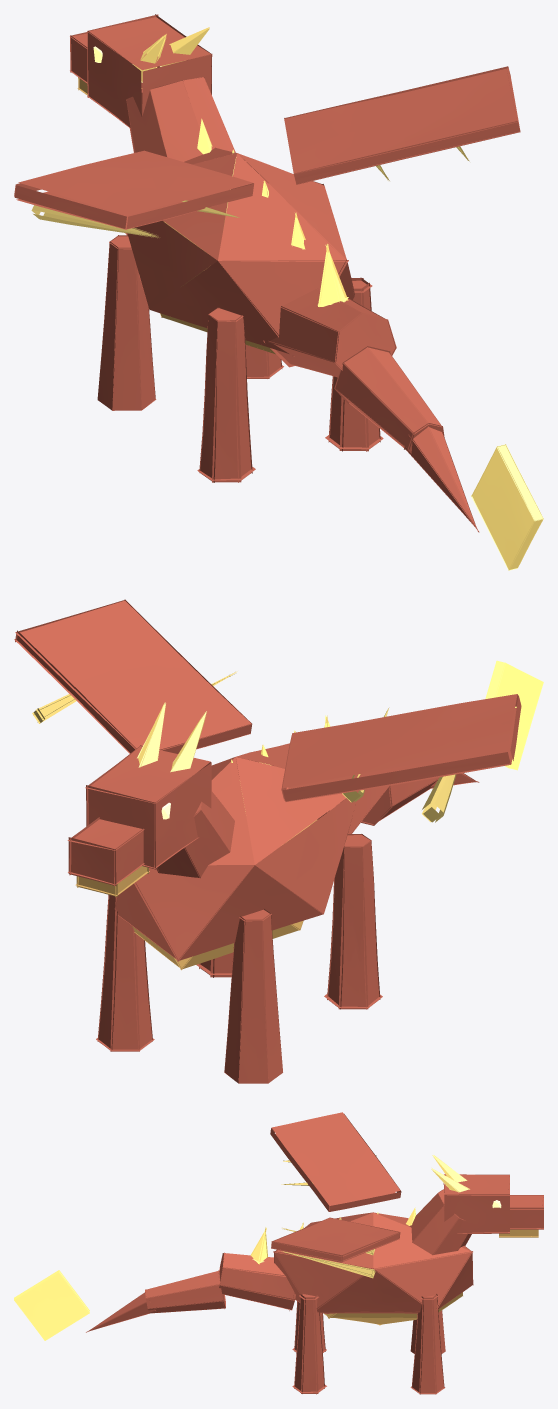
Rendered from dragon_ember.glb.
The picture shows the model from 3 angles, top to bottom: view 1: azimuth 30°, elevation 25°; view 2: azimuth 150°, elevation 25°; view 3: azimuth 270°, elevation 25°; orthographic projection. The views are drawn at different scales.
Parts seen in each view (by area): view 1: DragonBody; view 2: DragonBody; view 3: DragonBody.
Part boxes in pixels (bbox=[...]): DragonBody: bbox=[14, 14, 543, 570]; DragonBody: bbox=[14, 599, 543, 1083]; DragonBody: bbox=[14, 1112, 543, 1394].
Bounding box in the file's own units: 2.95 × 2.01 × 4.6.
